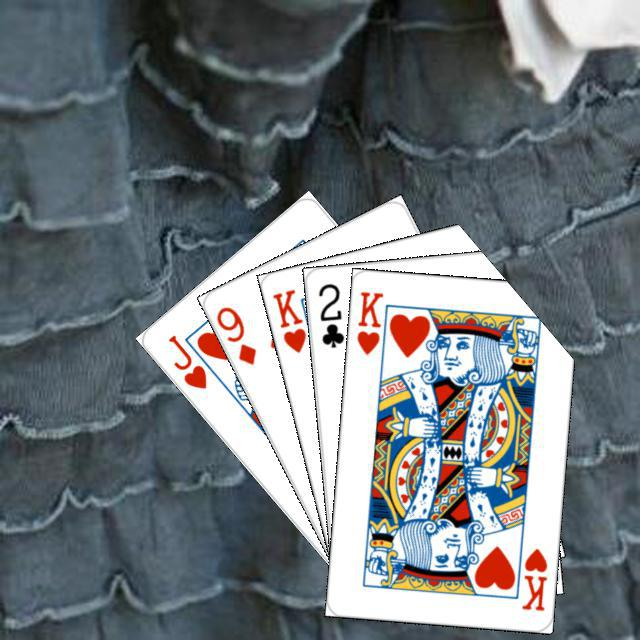2c: (313, 278, 346, 350)
9d: (211, 301, 258, 367)
Jh: (163, 330, 209, 391)
Kh: (267, 284, 319, 357), (352, 286, 393, 364), (517, 543, 549, 613)
